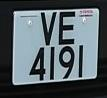1: (46, 45, 60, 83), (76, 43, 90, 79)
4: (26, 46, 49, 83)
9: (58, 45, 78, 80)
E: (56, 8, 78, 47)
V: (36, 9, 59, 50)
